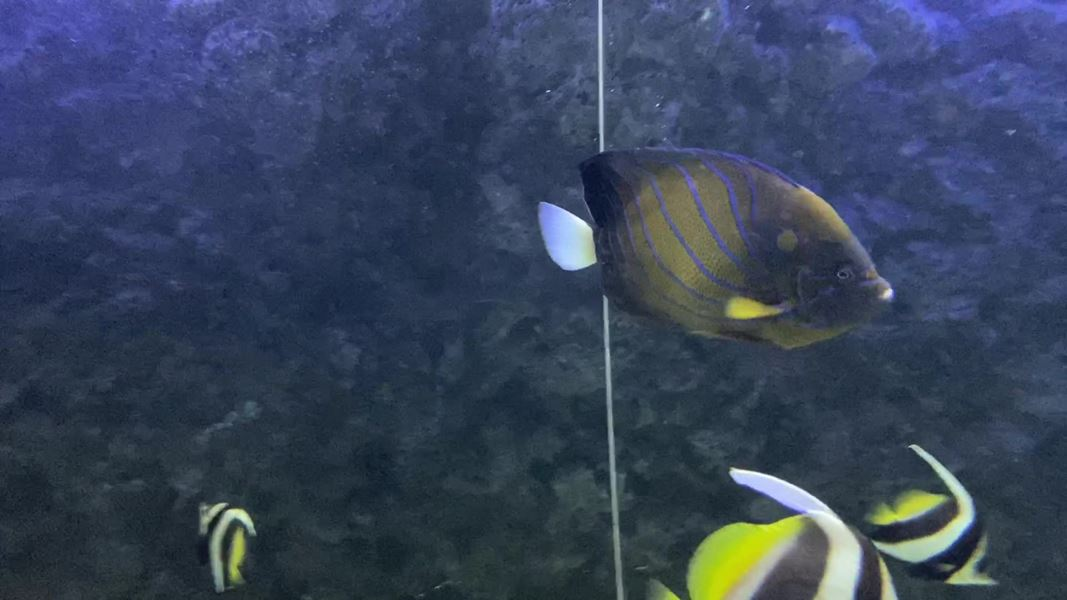Blue ring angelfish: (536, 135, 919, 388)
